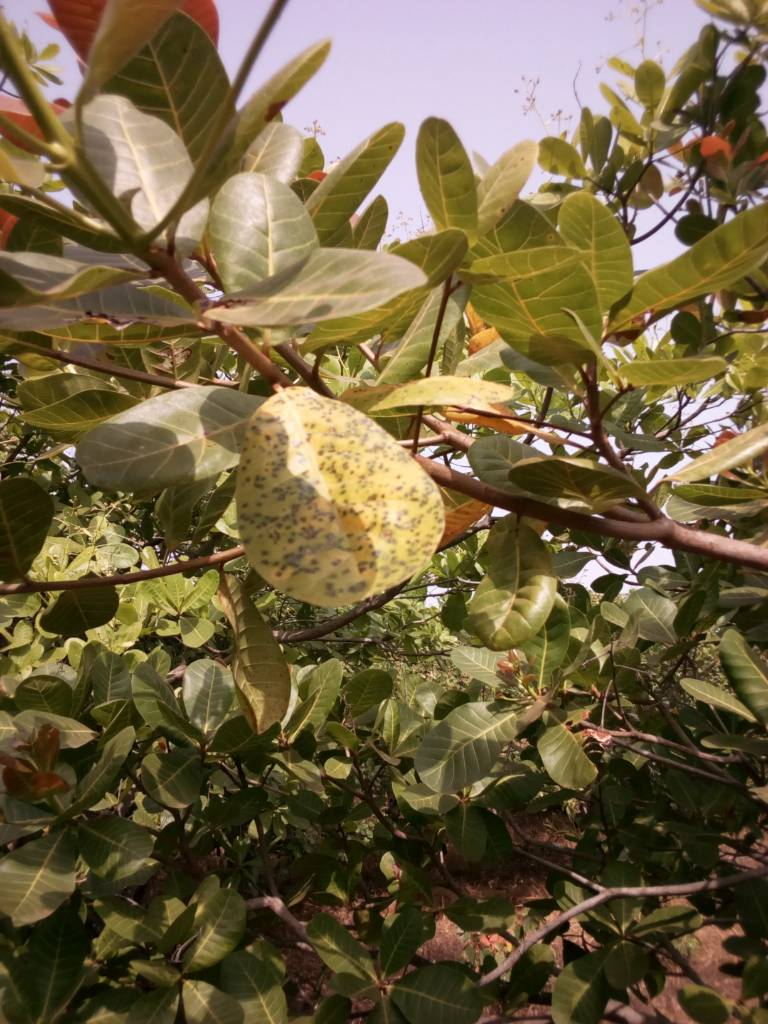Anthracnose: (240, 388, 444, 616)
